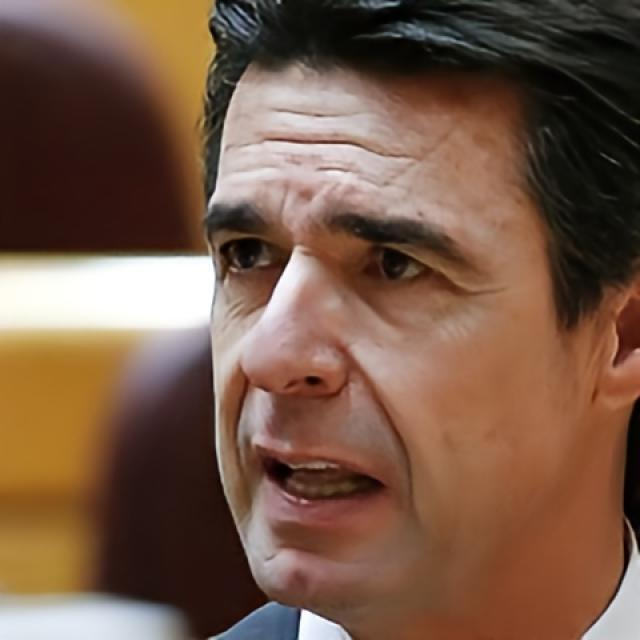Fear: (200, 55, 593, 640)
